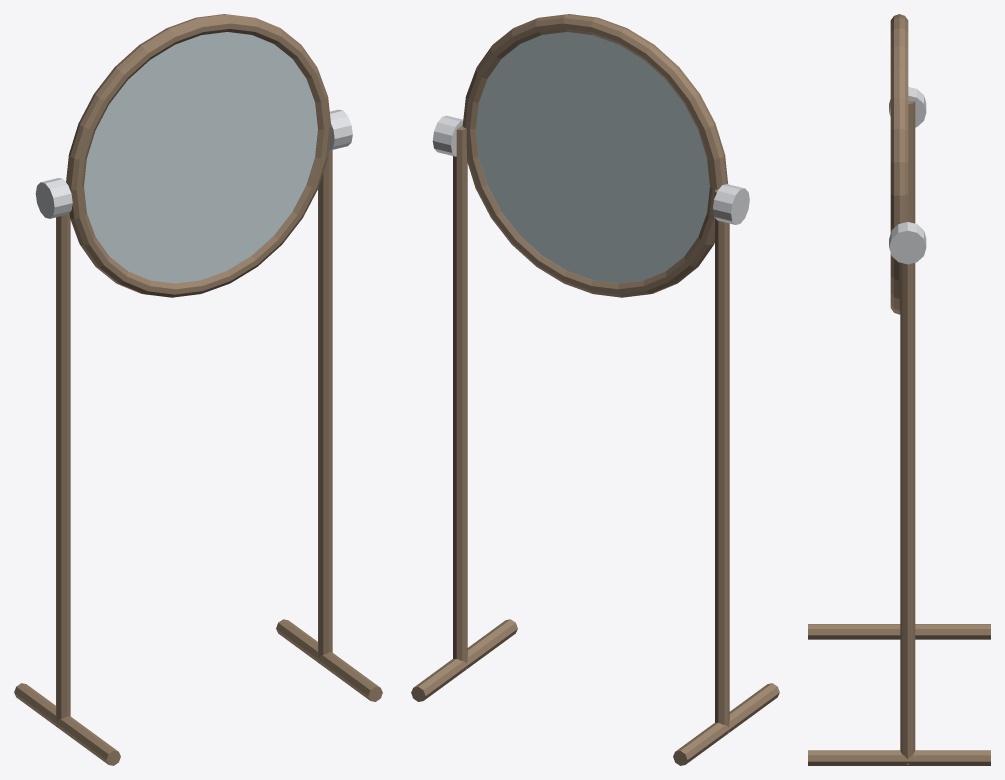
Rendered from bedroom-and-living-room-furniture-dressing-mirror-roun-931215ee.glb.
3 views of the same model, side by side, from view 1: azimuth 30°, elevation 25°; view 2: azimuth 150°, elevation 25°; view 3: azimuth 270°, elevation 25° (orthographic).
Visible parts, largest first — view 1: dressing-mirror-round; view 2: dressing-mirror-round; view 3: dressing-mirror-round.
Part boxes in pixels (x1,y1,x2,y2): dressing-mirror-round: (14, 14, 382, 765); dressing-mirror-round: (411, 14, 779, 765); dressing-mirror-round: (808, 14, 990, 765).
Size of the model in its own units: 0.82 by 1.79 by 0.4399.
